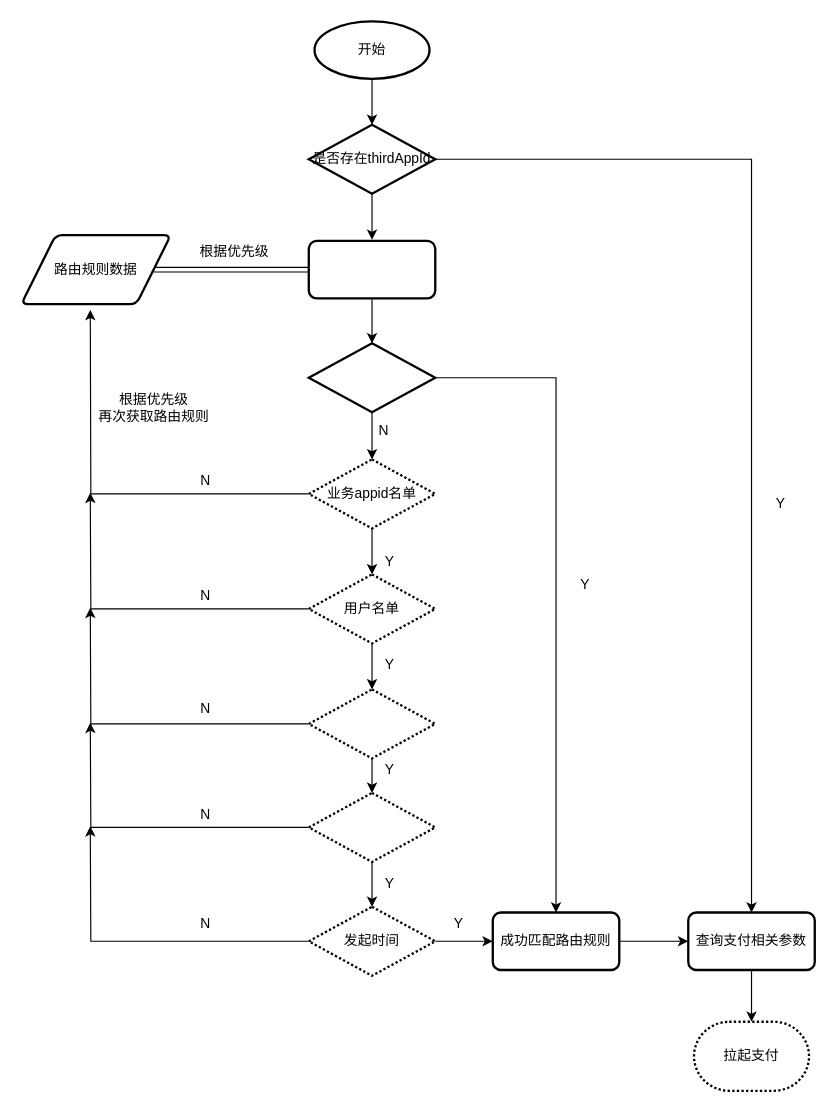
Some shapes in this 835 by 1111 pixel diagram are drawn without their labels. The shapes that lost their labels are listed below. From the top down, each one's centre as x and y in pixels, then its label:
[371,269]: 获取路由规则
[371,377]: 是否默认
[371,723]: 是否自定义url
[371,826]: 支付金额
